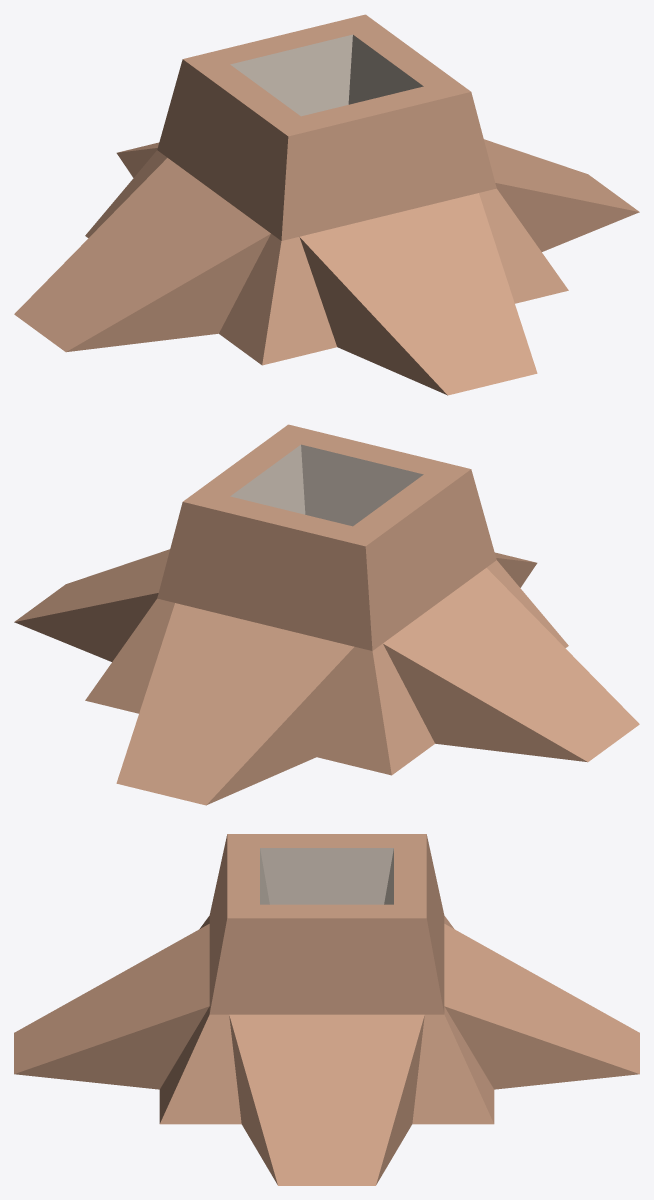
The model's file is stump_squareDetailedWide.glb.
3 renders of one model, top to bottom at view 1: azimuth 30°, elevation 25°; view 2: azimuth 150°, elevation 25°; view 3: azimuth 270°, elevation 25°, orthographic. The views are drawn at different scales.
Parts seen in each view (by area): view 1: stump_squareDetailedWide; view 2: stump_squareDetailedWide; view 3: stump_squareDetailedWide.
Part boxes in pixels (x1,y1,x2,y2): stump_squareDetailedWide: (14, 14, 639, 395); stump_squareDetailedWide: (14, 424, 639, 805); stump_squareDetailedWide: (14, 834, 639, 1185).
Size of the model in its own units: 0.64 by 0.2 by 0.64.
